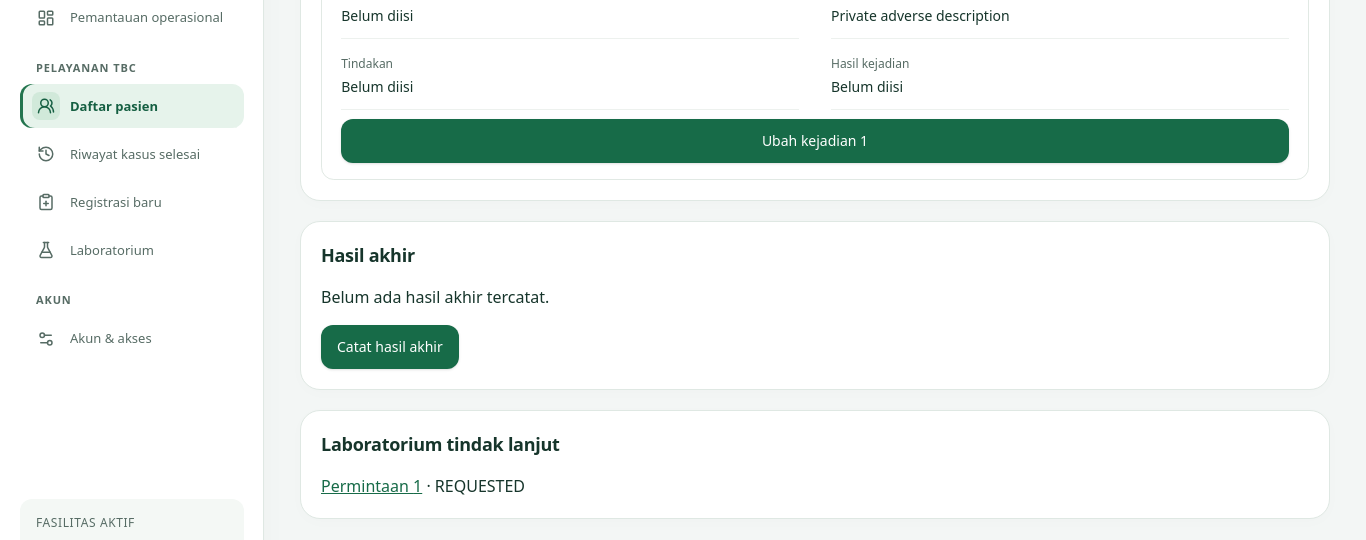
outcome requires explicit closure confirmation, live code and actual treatment ETag
The image size is (1366, 540).
(page scrolled)
Step 1. Click the button "Catat hasil akhir" → x=390, y=347, box 321,325 -> 459,369
(page scrolled)
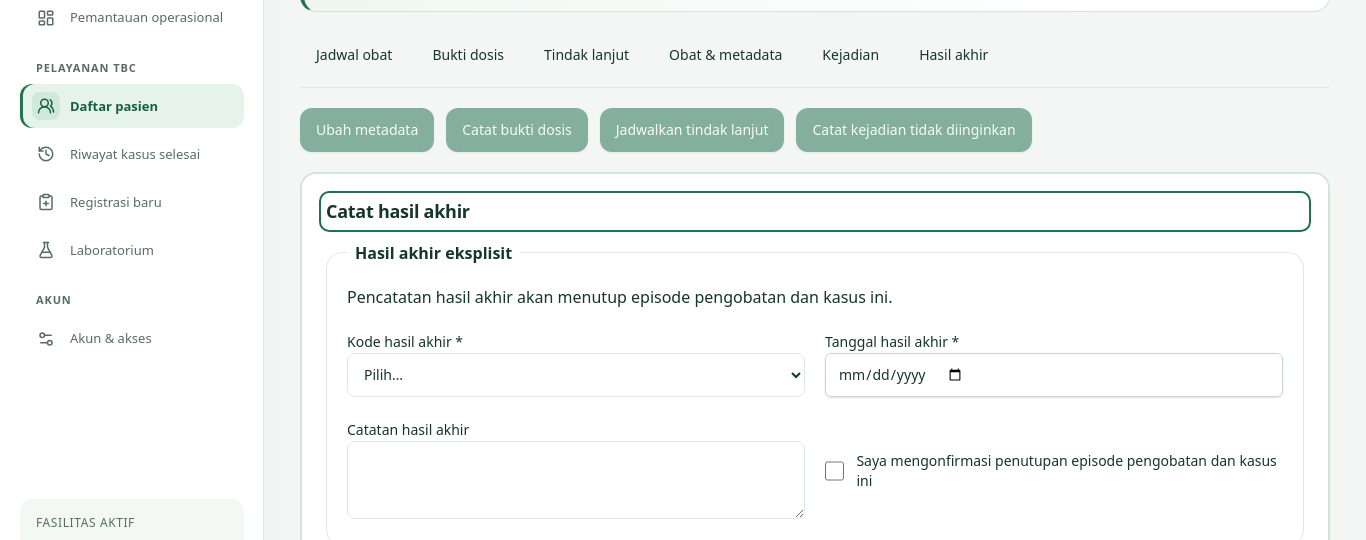
Check: the text "Pencatatan hasil akhir akan menutup episode pengobatan dan kasus ini." is shown, box 347,286 -> 892,308
Step 2. Select "Sembuh" in the dropdown labelled "Kode hasil akhir *" → x=576, y=375, box 347,353 -> 805,397
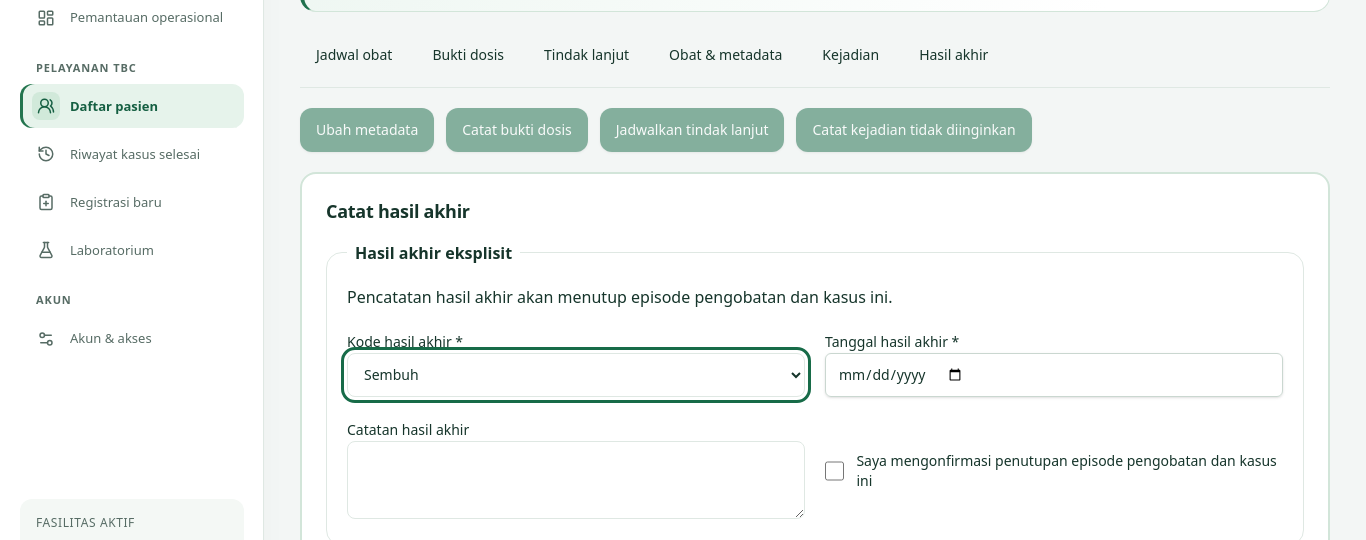
Step 3. Type "2026-09-10" into the date field labelled "Tanggal hasil akhir *" → x=1054, y=375, box 825,353 -> 1283,397
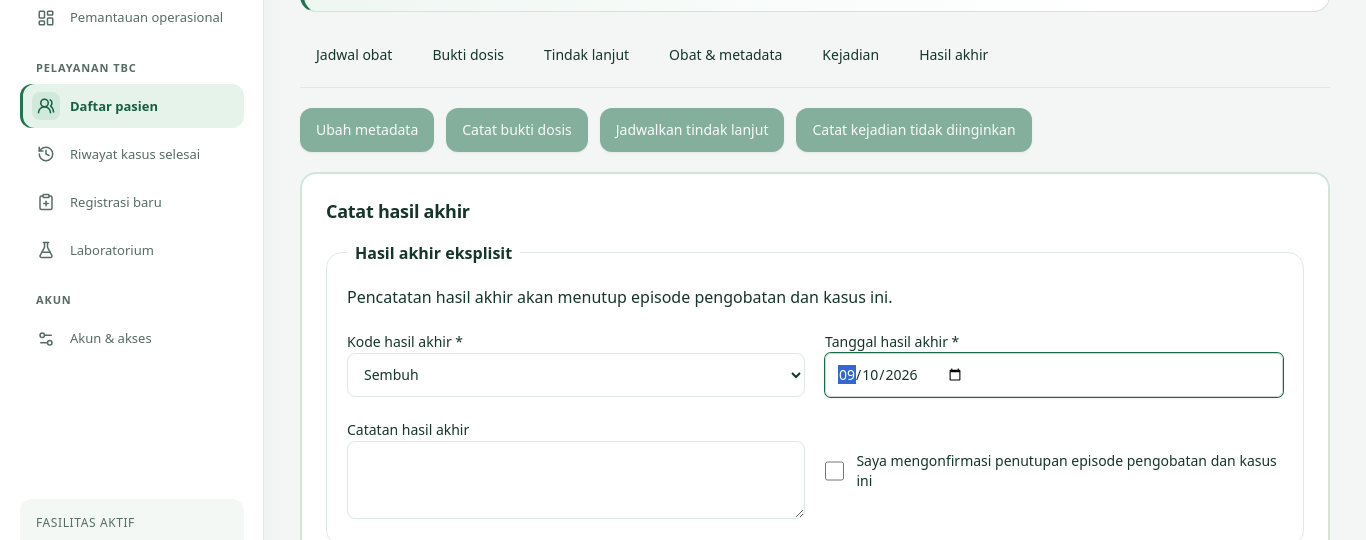
Step 4. Click the checkbox labelled "Saya mengonfirmasi penutupan" → x=835, y=471, box 825,449 -> 844,493
(page scrolled)
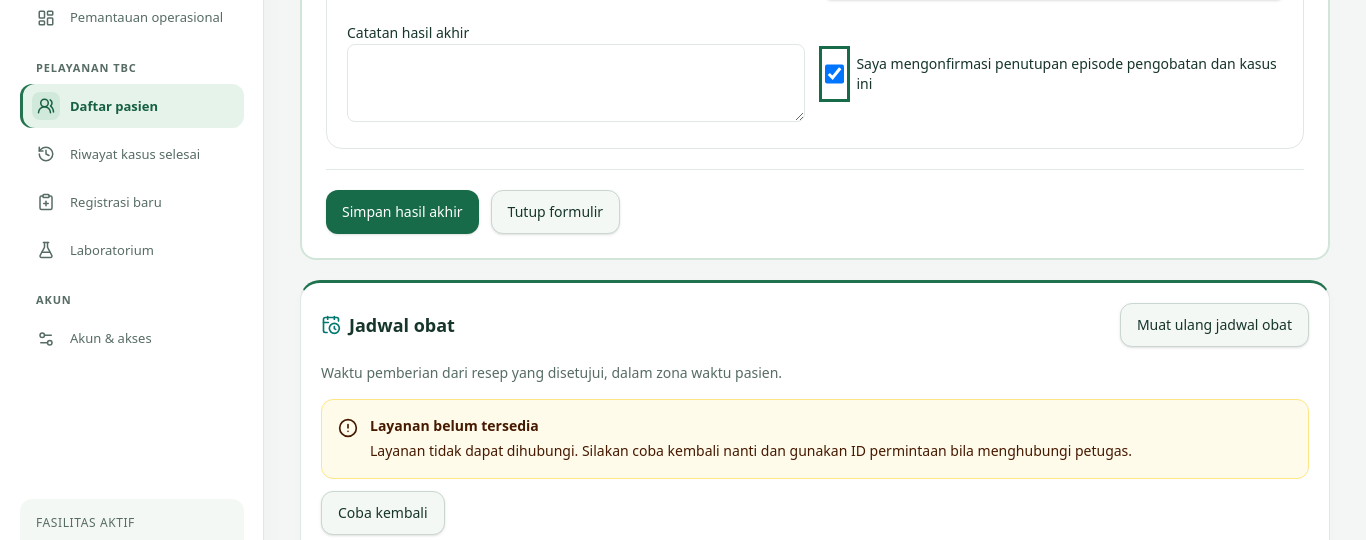
Step 5. Click the button "Simpan hasil akhir" → x=402, y=212, box 326,190 -> 479,234
(page scrolled)
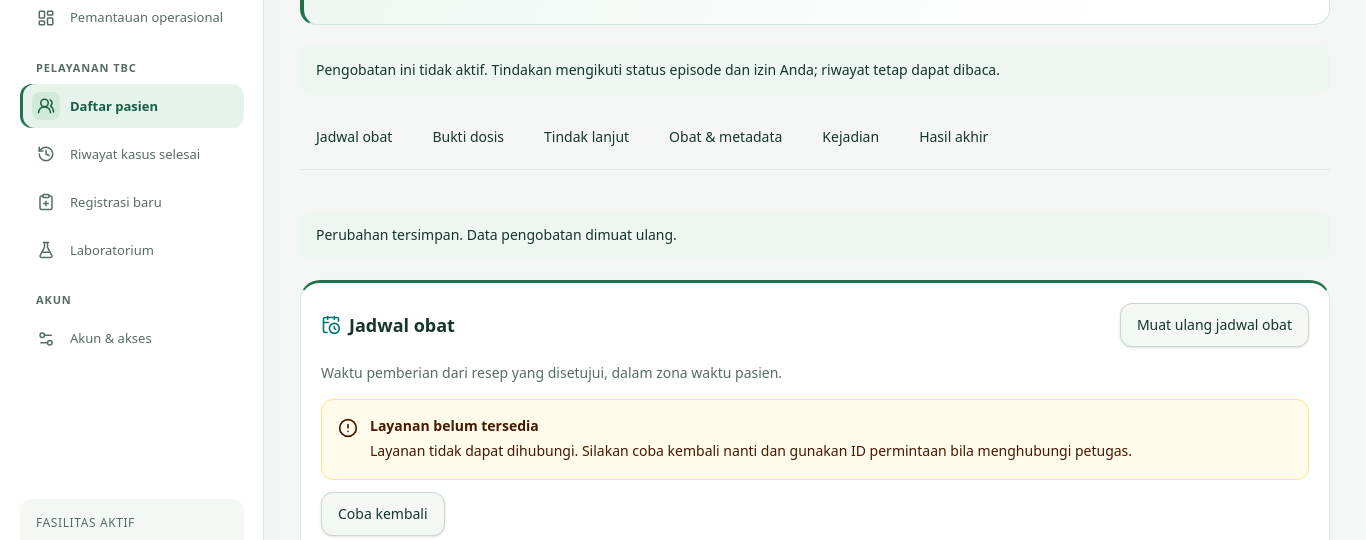
Check: the heading "Catat hasil akhir" is not shown
Check: the text "Perubahan tersimpan. Data pengobatan dimuat ulang." is shown, box 300,210 -> 1330,260
